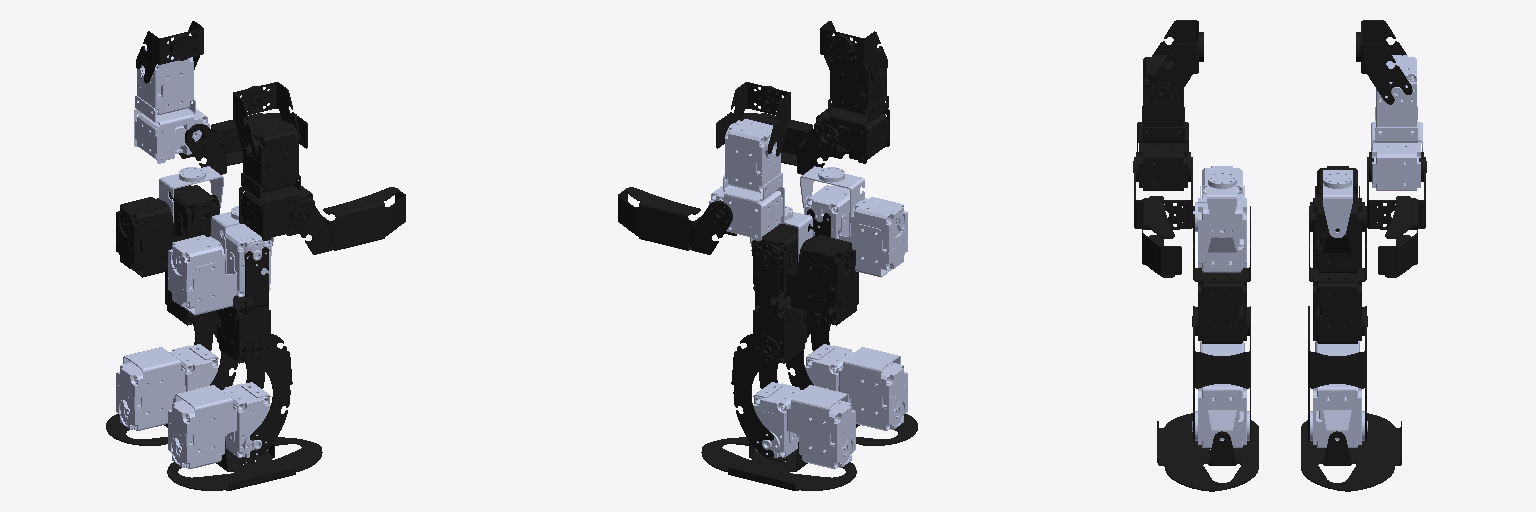
--- What the picture shows (computed from the rendered views, not written in the file) ---
The picture shows the robot from 3 angles, left to right: view 1: azimuth 30°, elevation 25°; view 2: azimuth 150°, elevation 25°; view 3: azimuth 270°, elevation 25°; orthographic projection.
Model fidgerald_description with 19 links and 18 joints (18 continuous), rooted at figerald_base, posed every joint at zero.
Visible links, largest first — view 1: right_foot_foot, left_hand_elbow, right_foot_bulk, left_foot_foot, left_foot_bulk, right_hand_elbow, left_hand_wrist, right_foot_rot, right_foot_hip, right_foot_knee, right_hand_wrist, left_hand_shoulder (+6 smaller); view 2: left_foot_foot, right_hand_elbow, left_foot_bulk, right_foot_foot, right_foot_bulk, left_hand_elbow, right_hand_wrist, left_foot_root, left_foot_hip, left_foot_knee, left_hand_wrist, right_hand_shoulder (+6 smaller); view 3: right_hand_elbow, left_hand_elbow, right_foot_rot, left_foot_root, right_foot_hip, left_foot_hip, right_hand_wrist, left_hand_wrist, left_foot_foot, right_foot_foot, left_foot_bulk, right_foot_bulk (+6 smaller).
Link boxes in pixels (bbox=[...]): right_foot_foot: bbox=[168, 382, 270, 468]; left_hand_elbow: bbox=[239, 119, 314, 240]; right_foot_bulk: bbox=[168, 224, 271, 315]; left_foot_foot: bbox=[116, 344, 218, 430]; left_foot_bulk: bbox=[116, 185, 219, 277]; right_hand_elbow: bbox=[134, 42, 209, 163]; left_hand_wrist: bbox=[286, 187, 405, 254]; right_foot_rot: bbox=[167, 437, 322, 490]; right_foot_hip: bbox=[217, 247, 270, 363]; right_foot_knee: bbox=[245, 333, 292, 457]; right_hand_wrist: bbox=[179, 113, 307, 174]; left_hand_shoulder: bbox=[233, 82, 300, 155]; left_foot_foot: bbox=[753, 382, 855, 468]; right_hand_elbow: bbox=[709, 119, 784, 240]; left_foot_bulk: bbox=[751, 224, 855, 315]; right_foot_foot: bbox=[805, 344, 907, 430]; right_foot_bulk: bbox=[804, 185, 907, 277]; left_hand_elbow: bbox=[814, 43, 889, 163]; right_hand_wrist: bbox=[618, 187, 736, 254]; left_foot_root: bbox=[701, 437, 856, 490]; left_foot_hip: bbox=[753, 247, 806, 363]; left_foot_knee: bbox=[731, 333, 779, 457]; left_hand_wrist: bbox=[716, 113, 844, 174]; right_hand_shoulder: bbox=[723, 82, 790, 156]; right_hand_elbow: bbox=[1371, 55, 1422, 190]; left_hand_elbow: bbox=[1137, 55, 1188, 190]; right_foot_rot: bbox=[1157, 413, 1258, 491]; left_foot_root: bbox=[1301, 413, 1401, 491]; right_foot_hip: bbox=[1192, 206, 1250, 343]; left_foot_hip: bbox=[1309, 206, 1367, 343]; right_hand_wrist: bbox=[1367, 152, 1426, 277]; left_hand_wrist: bbox=[1133, 152, 1192, 277]; left_foot_foot: bbox=[1310, 341, 1367, 447]; right_foot_foot: bbox=[1192, 341, 1249, 447]; left_foot_bulk: bbox=[1309, 166, 1366, 272]; right_foot_bulk: bbox=[1193, 166, 1246, 272].
Bounding box of the posed robot: 0.1859 × 0.2038 × 0.322 m (x, y, z).
Meshes: 19 distinct files referenced, 18 mesh visuals loaded (18 binary STL); not drawn: 1 (reference not matched to a file when rendering).

The robot description file, URDF, robot "fidgerald_description":
<?xml version="1.0" encoding="utf-8"?>
<!-- This URDF was automatically created by SolidWorks to URDF Exporter! Originally created by Stephen Brawner ([email redacted]) 
     Commit Version: 1.6.0-4-g7f85cfe  Build Version: 1.6.7995.38578
     For more information, please see http://wiki.ros.org/sw_urdf_exporter -->
<robot
  name="fidgerald_description">
  <link
    name="figerald_base">
    <inertial>
      <origin
        xyz="0.00146482980344935 0.000200802215151481 0.102731224785457"
        rpy="0 0 0" />
      <mass
        value="0.593565216202579" />
      <inertia
        ixx="0.000463974787278857"
        ixy="-8.01345030493901E-07"
        ixz="2.1536352514012E-05"
        iyy="0.000278421869690707"
        iyz="-1.17269190662436E-06"
        izz="0.000428919459969978" />
    </inertial>
    <visual>
      <origin
        xyz="0 0 0"
        rpy="0 0 0" />
      <geometry>
        <mesh
          filename="package://fidgerald_description/meshes/figerald_base.STL" />
      </geometry>
      <material
        name="">
        <color
          rgba="0.152941176470588 0.152941176470588 0.152941176470588 1" />
      </material>
    </visual>
    <collision>
      <origin
        xyz="0 0 0"
        rpy="0 0 0" />
      <geometry>
        <mesh
          filename="package://fidgerald_description/meshes/figerald_base.STL" />
      </geometry>
    </collision>
  </link>
  <link
    name="right_hand_shoulder">
    <inertial>
      <origin
        xyz="6.67679846420793E-08 0.12133228016755 -0.00625459128556161"
        rpy="0 0 0" />
      <mass
        value="0.0199211511204866" />
      <inertia
        ixx="4.08157413698869E-06"
        ixy="1.59733238737151E-13"
        ixz="-6.88831178460614E-21"
        iyy="8.20688364498782E-06"
        iyz="1.20357846049881E-06"
        izz="7.74346550142471E-06" />
    </inertial>
    <visual>
      <origin
        xyz="0 0 0"
        rpy="0 0 0" />
      <geometry>
        <mesh
          filename="package://fidgerald_description/meshes/right_hand_shoulder.STL" />
      </geometry>
      <material
        name="">
        <color
          rgba="0.152941176470588 0.152941176470588 0.152941176470588 1" />
      </material>
    </visual>
    <collision>
      <origin
        xyz="0 0 0"
        rpy="0 0 0" />
      <geometry>
        <mesh
          filename="package://fidgerald_description/meshes/right_hand_shoulder.STL" />
      </geometry>
    </collision>
  </link>
  <joint
    name="RH_shoulder"
    type="continuous">
    <origin
      xyz="0.00244000000000023 -0.0549600000000011 0.11954"
      rpy="0 0 0" />
    <parent
      link="figerald_base" />
    <child
      link="right_hand_shoulder" />
    <axis
      xyz="0 1 0" />
  </joint>
  <link
    name="right_hand_elbow">
    <inertial>
      <origin
        xyz="-0.015903348741452 0.162235338197572 -0.0360695926405078"
        rpy="0 0 0" />
      <mass
        value="0.10351401769613" />
      <inertia
        ixx="2.10667278014896E-05"
        ixy="-1.42251194707462E-08"
        ixz="-8.74957444694065E-07"
        iyy="2.52326957043821E-05"
        iyz="9.94129902288859E-09"
        izz="2.33107563035394E-05" />
    </inertial>
    <visual>
      <origin
        xyz="0 0 0"
        rpy="0 0 0" />
      <geometry>
        <mesh
          filename="package://fidgerald_description/meshes/right_hand_elbow.STL" />
      </geometry>
      <material
        name="">
        <color
          rgba="0.792156862745098 0.819607843137255 0.933333333333333 1" />
      </material>
    </visual>
    <collision>
      <origin
        xyz="0 0 0"
        rpy="0 0 0" />
      <geometry>
        <mesh
          filename="package://fidgerald_description/meshes/right_hand_elbow.STL" />
      </geometry>
    </collision>
  </link>
  <joint
    name="RH_elbow2shoulder"
    type="continuous">
    <origin
      xyz="0.0178999999999999 -0.0261 -0.025"
      rpy="0 0 0" />
    <parent
      link="right_hand_shoulder" />
    <child
      link="right_hand_elbow" />
    <axis
      xyz="-1 0 0" />
  </joint>
  <link
    name="right_hand_wrist">
    <inertial>
      <origin
        xyz="0.0436515670712859 0.184381344551546 -0.0220880625746049"
        rpy="0 0 0" />
      <mass
        value="0.0581565936003108" />
      <inertia
        ixx="1.49433435063714E-05"
        ixy="1.83369551893672E-06"
        ixz="1.20355865670486E-06"
        iyy="2.96260106947323E-05"
        iyz="-1.38333007734281E-13"
        izz="3.05981734809628E-05" />
    </inertial>
    <visual>
      <origin
        xyz="0 0 0"
        rpy="0 0 0" />
      <geometry>
        <mesh
          filename="package://fidgerald_description/meshes/right_hand_wrist.STL" />
      </geometry>
      <material
        name="">
        <color
          rgba="0.152941176470588 0.152941176470588 0.152941176470588 1" />
      </material>
    </visual>
    <collision>
      <origin
        xyz="0 0 0"
        rpy="0 0 0" />
      <geometry>
        <mesh
          filename="package://fidgerald_description/meshes/right_hand_wrist.STL" />
      </geometry>
    </collision>
  </link>
  <joint
    name="RH_wrist2elbow"
    type="continuous">
    <origin
      xyz="0.000288803857696987 -0.0178999999999999 -0.05825"
      rpy="0 0 0" />
    <parent
      link="right_hand_elbow" />
    <child
      link="right_hand_wrist" />
    <axis
      xyz="0 1 0" />
  </joint>
  <link
    name="left_hand_shoulder">
    <inertial>
      <origin
        xyz="6.67679841842209E-08 -0.12133228016755 -0.00625459128556194"
        rpy="0 0 0" />
      <mass
        value="0.0199211511204866" />
      <inertia
        ixx="4.08157413698869E-06"
        ixy="-1.59733195430127E-13"
        ixz="-8.24173870238225E-21"
        iyy="8.20688364498782E-06"
        iyz="-1.20357846049882E-06"
        izz="7.7434655014247E-06" />
    </inertial>
    <visual>
      <origin
        xyz="0 0 0"
        rpy="0 0 0" />
      <geometry>
        <mesh
          filename="package://fidgerald_description/meshes/left_hand_shoulder.STL" />
      </geometry>
      <material
        name="">
        <color
          rgba="0.152941176470588 0.152941176470588 0.152941176470588 1" />
      </material>
    </visual>
    <collision>
      <origin
        xyz="0 0 0"
        rpy="0 0 0" />
      <geometry>
        <mesh
          filename="package://fidgerald_description/meshes/left_hand_shoulder.STL" />
      </geometry>
    </collision>
  </link>
  <joint
    name="LH_shoulder2base"
    type="continuous">
    <origin
      xyz="0.00244000000000016 0.0548399999999989 0.11954"
      rpy="0 0 0" />
    <parent
      link="figerald_base" />
    <child
      link="left_hand_shoulder" />
    <axis
      xyz="0 -1 0" />
  </joint>
  <link
    name="left_hand_elbow">
    <inertial>
      <origin
        xyz="-0.015903348741452 -0.162242466362087 -0.0360624644595609"
        rpy="0 0 0" />
      <mass
        value="0.10351401769613" />
      <inertia
        ixx="2.10667278014896E-05"
        ixy="2.50712513535357E-08"
        ixz="-8.84033561166388E-07"
        iyy="2.52326957043821E-05"
        iyz="9.98090661085736E-09"
        izz="2.33107563035395E-05" />
    </inertial>
    <visual>
      <origin
        xyz="0 0 0"
        rpy="0 0 0" />
      <geometry>
        <mesh
          filename="package://fidgerald_description/meshes/left_hand_elbow.STL" />
      </geometry>
      <material
        name="">
        <color
          rgba="0.152941176470588 0.152941176470588 0.152941176470588 1" />
      </material>
    </visual>
    <collision>
      <origin
        xyz="0 0 0"
        rpy="0 0 0" />
      <geometry>
        <mesh
          filename="package://fidgerald_description/meshes/left_hand_elbow.STL" />
      </geometry>
    </collision>
  </link>
  <joint
    name="LH_elbow2shoulder"
    type="continuous">
    <origin
      xyz="0.0179000000000001 0.0261 -0.025"
      rpy="0 0 0" />
    <parent
      link="left_hand_shoulder" />
    <child
      link="left_hand_elbow" />
    <axis
      xyz="-1 0 0" />
  </joint>
  <link
    name="left_hand_wrist">
    <inertial>
      <origin
        xyz="0.0436515670712859 -0.184381344551546 -0.0220880625746052"
        rpy="0 0 0" />
      <mass
        value="0.0581565936003107" />
      <inertia
        ixx="1.49433435063712E-05"
        ixy="-1.83369551893798E-06"
        ixz="1.20355865670486E-06"
        iyy="2.96260106947324E-05"
        iyz="1.38333014438997E-13"
        izz="3.05981734809627E-05" />
    </inertial>
    <visual>
      <origin
        xyz="0 0 0"
        rpy="0 0 0" />
      <geometry>
        <mesh
          filename="package://fidgerald_description/meshes/left_hand_wrist.STL" />
      </geometry>
      <material
        name="">
        <color
          rgba="0.152941176470588 0.152941176470588 0.152941176470588 1" />
      </material>
    </visual>
    <collision>
      <origin
        xyz="0 0 0"
        rpy="0 0 0" />
      <geometry>
        <mesh
          filename="package://fidgerald_description/meshes/left_hand_wrist.STL" />
      </geometry>
    </collision>
  </link>
  <joint
    name="LH_wrist2elbow"
    type="continuous">
    <origin
      xyz="0.000288803857696966 0.0179000000000001 -0.0582499999999999"
      rpy="0 0 0" />
    <parent
      link="left_hand_elbow" />
    <child
      link="left_hand_wrist" />
    <axis
      xyz="0 -1 0" />
  </joint>
  <link
    name="left_foot_egg">
    <inertial>
      <origin
        xyz="-0.00165545996674255 0.000112983743696414 -0.00945567611790341"
        rpy="0 0 0" />
      <mass
        value="0.016203506992482" />
      <inertia
        ixx="2.1810136006374E-06"
        ixy="3.83661225948782E-08"
        ixz="-4.29370100480343E-07"
        iyy="6.97104880202986E-06"
        iyz="-1.37351554226602E-09"
        izz="5.89656840609091E-06" />
    </inertial>
    <visual>
      <origin
        xyz="0 0 0"
        rpy="0 0 0" />
      <geometry>
        <mesh
          filename="package://fidgerald_description/meshes/left_foot_egg.STL" />
      </geometry>
      <material
        name="">
        <color
          rgba="0.792156862745098 0.819607843137255 0.933333333333333 1" />
      </material>
    </visual>
    <collision>
      <origin
        xyz="0 0 0"
        rpy="0 0 0" />
      <geometry>
        <mesh
          filename="package://fidgerald_description/meshes/left_foot_egg.STL" />
      </geometry>
    </collision>
  </link>
  <joint
    name="LF_egg2base"
    type="continuous">
    <origin
      xyz="0.00244000000000018 0.0399399999999985 0.0168899999999998"
      rpy="0 0 0" />
    <parent
      link="figerald_base" />
    <child
      link="left_foot_egg" />
    <axis
      xyz="0 0 1" />
  </joint>
  <link
    name="left_foot_bulk">
    <inertial>
      <origin
        xyz="0.0161597494675303 -0.000179917358893347 -0.00311685893624529"
        rpy="0 0 0" />
      <mass
        value="0.12375186354915" />
      <inertia
        ixx="2.2331391415211E-05"
        ixy="-1.50722459422672E-08"
        ixz="-7.97482194647935E-07"
        iyy="3.10506423026294E-05"
        iyz="-5.85305954560346E-11"
        izz="3.19370654049071E-05" />
    </inertial>
    <visual>
      <origin
        xyz="0 0 0"
        rpy="0 0 0" />
      <geometry>
        <mesh
          filename="package://fidgerald_description/meshes/left_foot_bulk.STL" />
      </geometry>
      <material
        name="">
        <color
          rgba="0.152941176470588 0.152941176470588 0.152941176470588 1" />
      </material>
    </visual>
    <collision>
      <origin
        xyz="0 0 0"
        rpy="0 0 0" />
      <geometry>
        <mesh
          filename="package://fidgerald_description/meshes/left_foot_bulk.STL" />
      </geometry>
    </collision>
  </link>
  <joint
    name="LF_bulk2egg"
    type="continuous">
    <origin
      xyz="-0.02435 0 -0.02735"
      rpy="3.14159265358979 1.5707963267949 0" />
    <parent
      link="left_foot_egg" />
    <child
      link="left_foot_bulk" />
    <axis
      xyz="0 0 -1" />
  </joint>
  <link
    name="left_foot_hip">
    <inertial>
      <origin
        xyz="0.0548798930357333 -0.000676629972039144 0.0173069598610645"
        rpy="0 0 0" />
      <mass
        value="0.0647397379822882" />
      <inertia
        ixx="1.36555549716131E-05"
        ixy="7.17497836536765E-07"
        ixz="1.95215350076347E-08"
        iyy="2.2744902900304E-05"
        iyz="-5.46185313426984E-09"
        izz="1.71393380797248E-05" />
    </inertial>
    <visual>
      <origin
        xyz="0 0 0"
        rpy="0 0 0" />
      <geometry>
        <mesh
          filename="package://fidgerald_description/meshes/left_foot_hip.STL" />
      </geometry>
      <material
        name="">
        <color
          rgba="0.152941176470588 0.152941176470588 0.152941176470588 1" />
      </material>
    </visual>
    <collision>
      <origin
        xyz="0 0 0"
        rpy="0 0 0" />
      <geometry>
        <mesh
          filename="package://fidgerald_description/meshes/left_foot_hip.STL" />
      </geometry>
    </collision>
  </link>
  <joint
    name="LF_hip2bulk"
    type="continuous">
    <origin
      xyz="0 -0.017900000000001 -0.02435"
      rpy="-1.5707963267949 0 0" />
    <parent
      link="left_foot_bulk" />
    <child
      link="left_foot_hip" />
    <axis
      xyz="0 0 1" />
  </joint>
  <link
    name="left_foot_knee">
    <inertial>
      <origin
        xyz="0.0323472698616189 -0.0165607705092005 -0.0175965615316894"
        rpy="0 0 0" />
      <mass
        value="0.0389929410816578" />
      <inertia
        ixx="1.68740106530794E-05"
        ixy="-1.73267561044111E-06"
        ixz="1.5973321943917E-13"
        iyy="4.03995897769816E-05"
        iyz="-1.84935891786687E-20"
        izz="3.13656638783481E-05" />
    </inertial>
    <visual>
      <origin
        xyz="0 0 0"
        rpy="0 0 0" />
      <geometry>
        <mesh
          filename="package://fidgerald_description/meshes/left_foot_knee.STL" />
      </geometry>
      <material
        name="">
        <color
          rgba="0.152941176470588 0.152941176470588 0.152941176470588 1" />
      </material>
    </visual>
    <collision>
      <origin
        xyz="0 0 0"
        rpy="0 0 0" />
      <geometry>
        <mesh
          filename="package://fidgerald_description/meshes/left_foot_knee.STL" />
      </geometry>
    </collision>
  </link>
  <joint
    name="LF_knee2hip"
    type="continuous">
    <origin
      xyz="0.079999999999998 0 0"
      rpy="3.14159265358979 0 0" />
    <parent
      link="left_foot_hip" />
    <child
      link="left_foot_knee" />
    <axis
      xyz="0 0 1" />
  </joint>
  <link
    name="left_foot_foot">
    <inertial>
      <origin
        xyz="-0.0163089126213454 0.0212333193405577 -0.0177072891052394"
        rpy="0 0 0" />
      <mass
        value="0.122527563023214" />
      <inertia
        ixx="2.23012462307247E-05"
        ixy="7.88406280785362E-07"
        ixz="-2.41483827633404E-08"
        iyy="3.18793652203524E-05"
        iyz="1.14984928437809E-14"
        izz="3.10198019424089E-05" />
    </inertial>
    <visual>
      <origin
        xyz="0 0 0"
        rpy="0 0 0" />
      <geometry>
        <mesh
          filename="package://fidgerald_description/meshes/left_foot_foot.STL" />
      </geometry>
      <material
        name="">
        <color
          rgba="0.792156862745098 0.819607843137255 0.933333333333333 1" />
      </material>
    </visual>
    <collision>
      <origin
        xyz="0 0 0"
        rpy="0 0 0" />
      <geometry>
        <mesh
          filename="package://fidgerald_description/meshes/left_foot_foot.STL" />
      </geometry>
    </collision>
  </link>
  <joint
    name="LF_foot2knee"
    type="continuous">
    <origin
      xyz="0.08 0 -0.000199999999999"
      rpy="0 0 0" />
    <parent
      link="left_foot_knee" />
    <child
      link="left_foot_foot" />
    <axis
      xyz="0 0 1" />
  </joint>
  <link
    name="left_foot_root">
    <inertial>
      <origin
        xyz="0.0183504339859798 0.0105501003758812 0.0176324957258009"
        rpy="0 0 0" />
      <mass
        value="0.0596876648707682" />
      <inertia
        ixx="7.90554995356425E-05"
        ixy="-6.94800841852231E-07"
        ixz="-4.43190944478482E-07"
        iyy="5.73828467438677E-05"
        iyz="1.67591668926797E-06"
        izz="2.47735589832396E-05" />
    </inertial>
    <visual>
      <origin
        xyz="0 0 0"
        rpy="0 0 0" />
      <geometry>
        <mesh
          filename="package://fidgerald_description/meshes/left_foot_root.STL" />
      </geometry>
      <material
        name="">
        <color
          rgba="0.152941176470588 0.152941176470588 0.152941176470588 1" />
      </material>
    </visual>
    <collision>
      <origin
        xyz="0 0 0"
        rpy="0 0 0" />
      <geometry>
        <mesh
          filename="package://fidgerald_description/meshes/left_foot_root.STL" />
      </geometry>
    </collision>
  </link>
  <joint
    name="left_foot_root"
    type="continuous">
    <origin
      xyz="0 0.02135 -0.0179"
      rpy="1.5707963267949 0 0" />
    <parent
      link="left_foot_foot" />
    <child
      link="left_foot_root" />
    <axis
      xyz="0 0 1" />
  </joint>
  <link
    name="right_foot_egg">
    <inertial>
      <origin
        xyz="-0.00165545996674267 0.000112819569964444 -0.00945567611790341"
        rpy="0 0 0" />
      <mass
        value="0.016203506992482" />
      <inertia
        ixx="2.18101360063738E-06"
        ixy="3.83661225948757E-08"
        ixz="-4.29370100480273E-07"
        iyy="6.97104880202986E-06"
        iyz="-1.37319607581971E-09"
        izz="5.89656840609093E-06" />
    </inertial>
    <visual>
      <origin
        xyz="0 0 0"
        rpy="0 0 0" />
      <geometry>
        <mesh
          filename="package://fidgerald_description/meshes/right_foot_egg.STL" />
      </geometry>
      <material
        name="">
        <color
          rgba="0.792156862745098 0.819607843137255 0.933333333333333 1" />
      </material>
    </visual>
    <collision>
      <origin
        xyz="0 0 0"
        rpy="0 0 0" />
      <geometry>
        <mesh
          filename="package://fidgerald_description/meshes/right_foot_egg.STL" />
      </geometry>
    </collision>
  </link>
  <joint
    name="RF_egg2base"
    type="continuous">
    <origin
      xyz="0.00244000000000018 -0.0400600000000015 0.0168900000000002"
      rpy="0 0 0" />
    <parent
      link="figerald_base" />
    <child
      link="right_foot_egg" />
    <axis
      xyz="0 0 1" />
  </joint>
  <link
    name="right_foot_bulk">
    <inertial>
      <origin
        xyz="0.0162770974951654 0.000324329119640698 -0.00290819774166367"
        rpy="0 0 0" />
      <mass
        value="0.12287194311214" />
      <inertia
        ixx="2.23054191500308E-05"
        ixy="2.40968168528413E-08"
        ixz="-7.88406121074773E-07"
        iyy="3.10018223810332E-05"
        iyz="5.85535353958022E-11"
        izz="3.19116305872095E-05" />
    </inertial>
    <visual>
      <origin
        xyz="0 0 0"
        rpy="0 0 0" />
      <geometry>
        <mesh
          filename="package://fidgerald_description/meshes/right_foot_bulk.STL" />
      </geometry>
      <material
        name="">
        <color
          rgba="0.792156862745098 0.819607843137255 0.933333333333333 1" />
      </material>
    </visual>
    <collision>
      <origin
        xyz="0 0 0"
        rpy="0 0 0" />
      <geometry>
        <mesh
          filename="package://fidgerald_description/meshes/right_foot_bulk.STL" />
      </geometry>
    </collision>
  </link>
  <joint
    name="RF_bulk2egg"
    type="continuous">
    <origin
      xyz="-0.024349999999996 0 -0.027349999999997"
      rpy="3.14159265358979 1.5707963267949 0" />
    <parent
      link="right_foot_egg" />
    <child
      link="right_foot_bulk" />
    <axis
      xyz="0 0 -1" />
  </joint>
  <link
    name="right_foot_hip">
    <inertial>
      <origin
        xyz="0.0552197787102037 0.000656312196280032 0.0175457403039559"
        rpy="0 0 0" />
      <mass
        value="0.065619658419299" />
      <inertia
        ixx="1.3681527236792E-05"
        ixy="-7.0842176296369E-07"
        ixz="1.96475277874486E-08"
        iyy="2.27701390361145E-05"
        iyz="-5.46185307728164E-09"
        izz="1.71883566832069E-05" />
    </inertial>
    <visual>
      <origin
        xyz="0 0 0"
        rpy="0 0 0" />
      <geometry>
        <mesh
          filename="package://fidgerald_description/meshes/right_foot_hip.STL" />
      </geometry>
      <material
        name="">
        <color
          rgba="0.152941176470588 0.152941176470588 0.152941176470588 1" />
      </material>
    </visual>
    <collision>
      <origin
        xyz="0 0 0"
        rpy="0 0 0" />
      <geometry>
        <mesh
          filename="package://fidgerald_description/meshes/right_foot_hip.STL" />
      </geometry>
    </collision>
  </link>
  <joint
    name="RH_hip2bulk"
    type="continuous">
    <origin
      xyz="0 0.017899999999999 -0.0243499999999989"
      rpy="1.5707963267949 0 0" />
    <parent
      link="right_foot_bulk" />
    <child
      link="right_foot_hip" />
    <axis
      xyz="0 0 -1" />
  </joint>
  <link
    name="right_foot_knee">
    <inertial>
      <origin
        xyz="0.032720235900536 0.0167517348912322 -0.0182012586729636"
        rpy="0 0 0" />
      <mass
        value="0.0385484341129405" />
      <inertia
        ixx="1.68680508207116E-05"
        ixy="1.73267561044015E-06"
        ixz="-2.3529041044569E-20"
        iyy="4.03936756795171E-05"
        iyz="3.53860178058991E-21"
        izz="3.13554359567357E-05" />
    </inertial>
    <visual>
      <origin
        xyz="0 0 0"
        rpy="0 0 0" />
      <geometry>
        <mesh
          filename="package://fidgerald_description/meshes/right_foot_knee.STL" />
      </geometry>
      <material
        name="">
        <color
          rgba="0.152941176470588 0.152941176470588 0.152941176470588 1" />
      </material>
    </visual>
    <collision>
      <origin
        xyz="0 0 0"
        rpy="0 0 0" />
      <geometry>
        <mesh
          filename="package://fidgerald_description/meshes/right_foot_knee.STL" />
      </geometry>
    </collision>
  </link>
  <joint
    name="RH_knee2hip"
    type="continuous">
    <origin
      xyz="0.080000000000001 0 0"
      rpy="-3.14159265358979 0 0" />
    <parent
      link="right_foot_hip" />
    <child
      link="right_foot_knee" />
    <axis
      xyz="0 0 1" />
  </joint>
  <link
    name="right_foot_foot">
    <inertial>
      <origin
        xyz="-0.0161597494675309 -0.0212833808462009 -0.0177063838430605"
        rpy="0 0 0" />
      <mass
        value="0.123751863549151" />
      <inertia
        ixx="2.23313914152107E-05"
        ixy="-7.97482194647855E-07"
        ixz="-1.50722459422055E-08"
        iyy="3.19368667230203E-05"
        iyz="-5.85305958354359E-11"
        izz="3.1050840984516E-05" />
    </inertial>
    <visual>
      <origin
        xyz="0 0 0"
        rpy="0 0 0" />
      <geometry>
        <mesh
          filename="package://fidgerald_description/meshes/right_foot_foot.STL" />
      </geometry>
      <material
        name="">
        <color
          rgba="0.792156862745098 0.819607843137255 0.933333333333333 1" />
      </material>
    </visual>
    <collision>
      <origin
        xyz="0 0 0"
        rpy="0 0 0" />
      <geometry>
        <mesh
          filename="package://fidgerald_description/meshes/right_foot_foot.STL" />
      </geometry>
    </collision>
  </link>
  <joint
    name="RF_foot2knee"
    type="continuous">
    <origin
      xyz="0.080000000000006 0 0"
      rpy="0 0 0" />
    <parent
      link="right_foot_knee" />
    <child
      link="right_foot_foot" />
    <axis
      xyz="0 0 1" />
  </joint>
  <link
    name="right_foot_rot">
    <inertial>
      <origin
        xyz="0.0183427530258221 -0.0105678225020585 0.0176129479141427"
        rpy="0 0 0" />
      <mass
        value="0.0594752252632798" />
      <inertia
        ixx="7.90387732794164E-05"
        ixy="6.9678227280813E-07"
        ixz="-4.41245136953901E-07"
        iyy="5.7373838283317E-05"
        iyz="-1.66841393510318E-06"
        izz="2.47644257313346E-05" />
    </inertial>
    <visual>
      <origin
        xyz="0 0 0"
        rpy="0 0 0" />
      <geometry>
        <mesh
          filename="package://fidgerald_description/meshes/right_foot_rot.STL" />
      </geometry>
      <material
        name="">
        <color
          rgba="0.152941176470588 0.152941176470588 0.152941176470588 1" />
      </material>
    </visual>
    <collision>
      <origin
        xyz="0 0 0"
        rpy="0 0 0" />
      <geometry>
        <mesh
          filename="package://fidgerald_description/meshes/right_foot_rot.STL" />
      </geometry>
    </collision>
  </link>
  <joint
    name="right_foot_rot"
    type="continuous">
    <origin
      xyz="0 -0.021350000000002 -0.0179000000000007"
      rpy="-1.5707963267949 0 0" />
    <parent
      link="right_foot_foot" />
    <child
      link="right_foot_rot" />
    <axis
      xyz="0 0 1" />
  </joint>
</robot>
